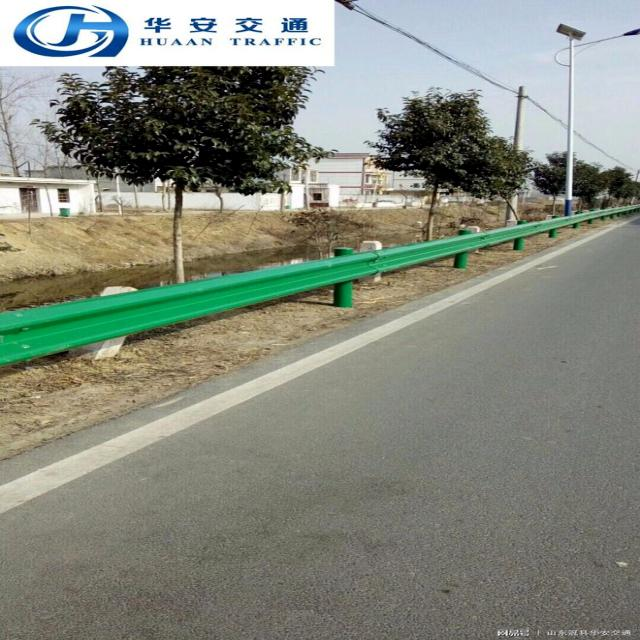Guard rail: (0, 205, 640, 363)
